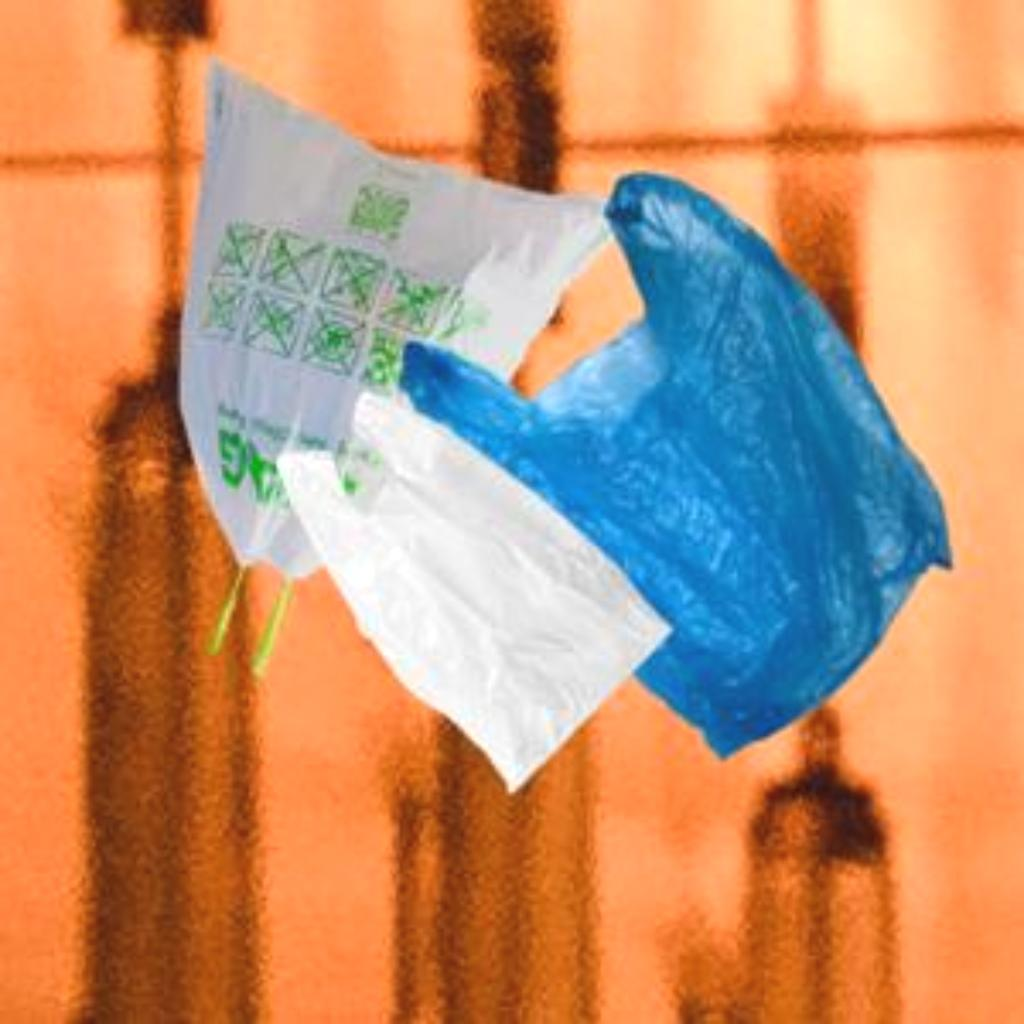garbage: (416, 162, 1007, 722), (138, 32, 620, 647), (271, 375, 698, 799)
